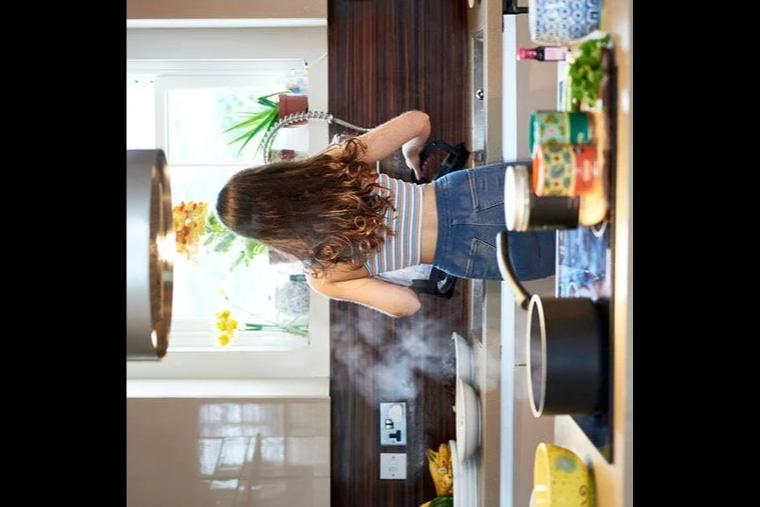controlled_fire: (334, 306, 569, 410)
